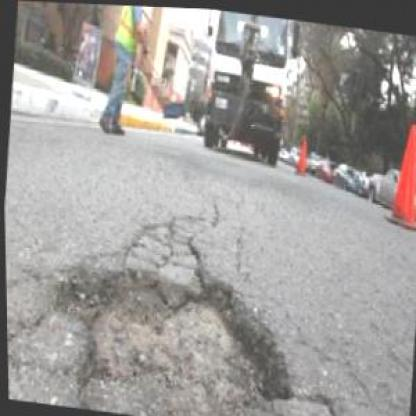pothole: (37, 245, 306, 414)
